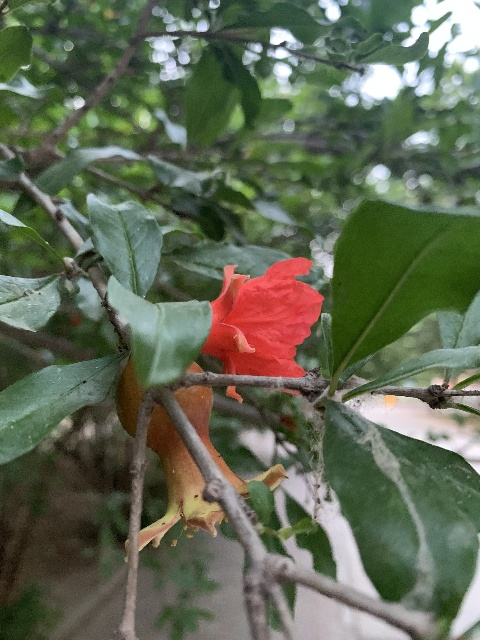early-fruit: (117, 360, 289, 553)
flower: (187, 256, 323, 405)
